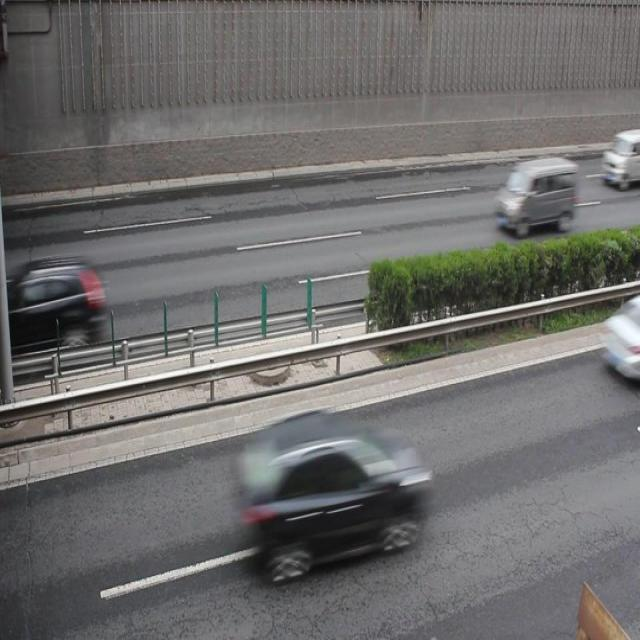car: (235, 408, 424, 579), (15, 251, 105, 358)
truck: (494, 157, 576, 235)
